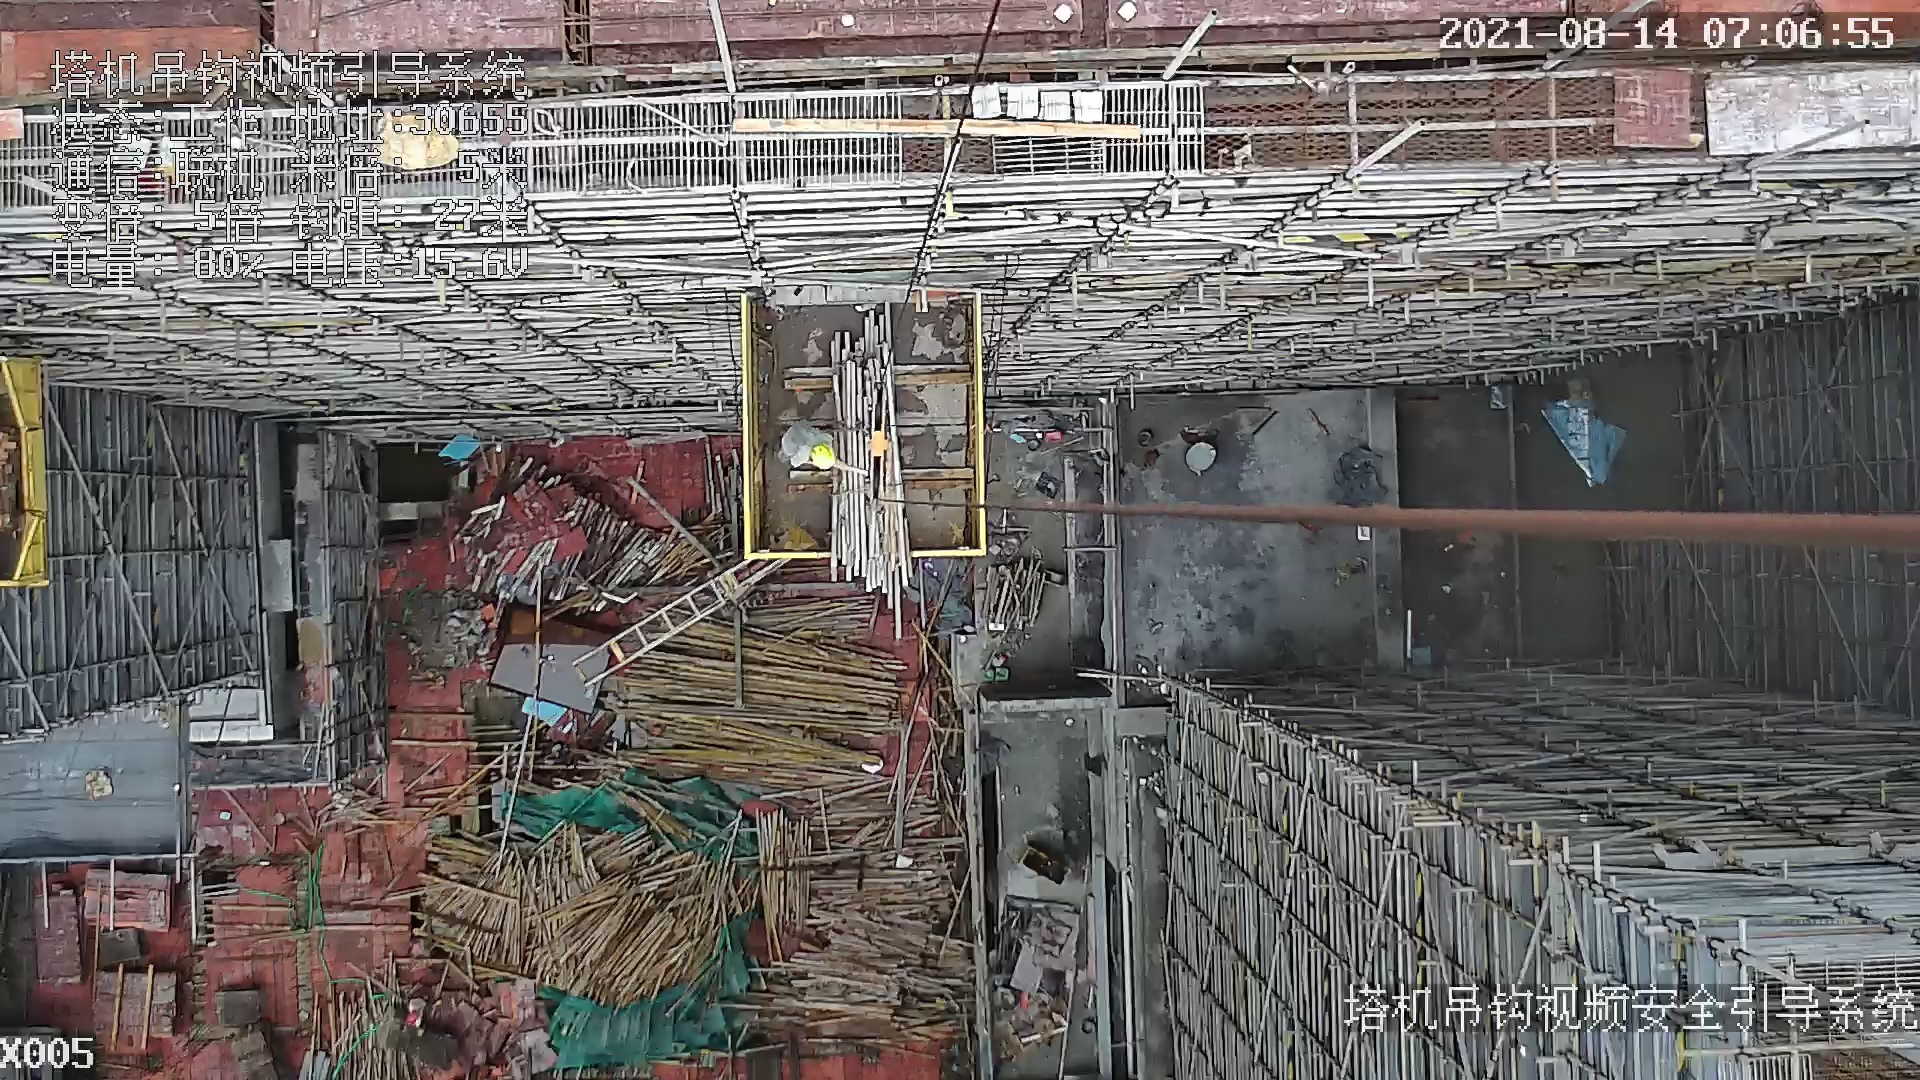helmet: (810, 444, 836, 470)
hook: (856, 378, 901, 510)
person: (774, 408, 855, 487)
